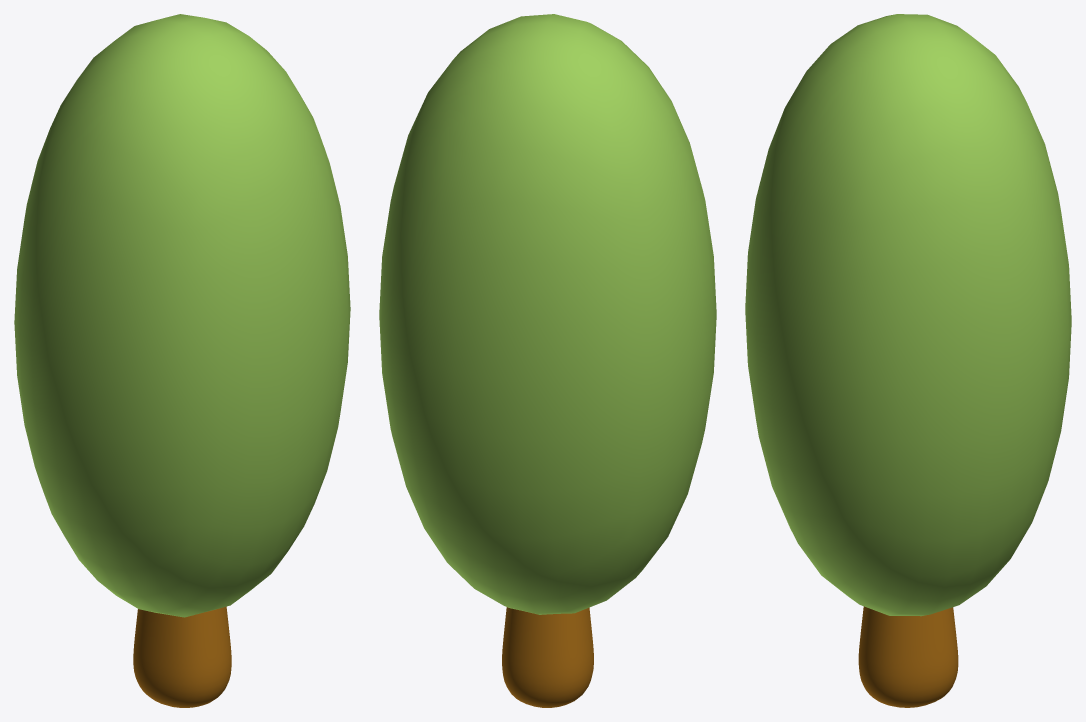
File: Tree3.fbx
3 renders of one model, left to right at view 1: azimuth 30°, elevation 25°; view 2: azimuth 150°, elevation 25°; view 3: azimuth 270°, elevation 25°, orthographic.
Visible parts, largest first — view 1: Tree3; view 2: Tree3; view 3: Tree3.
Boxes of the visible parts, x1,y1,x2,y2 form: Tree3: (14, 14, 350, 707); Tree3: (379, 14, 716, 707); Tree3: (745, 14, 1071, 707).
Size of the model in its own units: 1.34 by 2.97 by 1.3.
